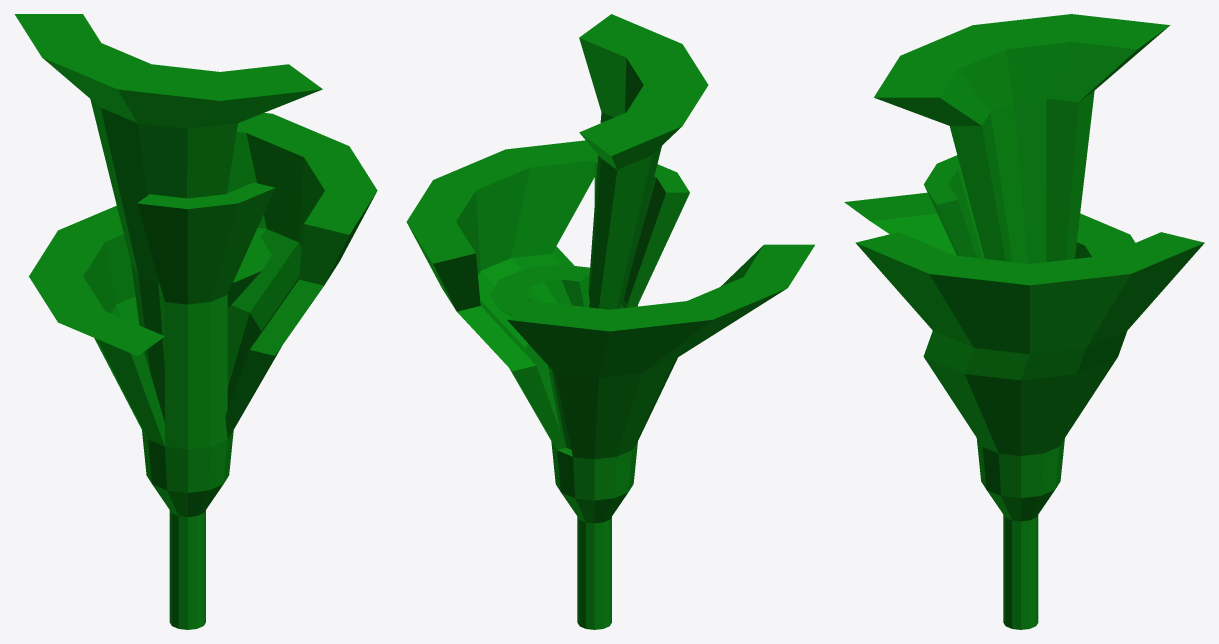
File: sapling_2.fbx
The picture shows the model from 3 angles, left to right: view 1: azimuth 30°, elevation 25°; view 2: azimuth 150°, elevation 25°; view 3: azimuth 270°, elevation 25°; orthographic projection. The views are drawn at different scales.
Visible parts, largest first — view 1: pCylinder3; view 2: pCylinder3; view 3: pCylinder3.
Part boxes in pixels (x1,y1,x2,y2): pCylinder3: (14,14,377,629); pCylinder3: (406,14,814,629); pCylinder3: (844,14,1204,629).
Size of the model in its own units: 0.7246 by 1.19 by 0.7058.
